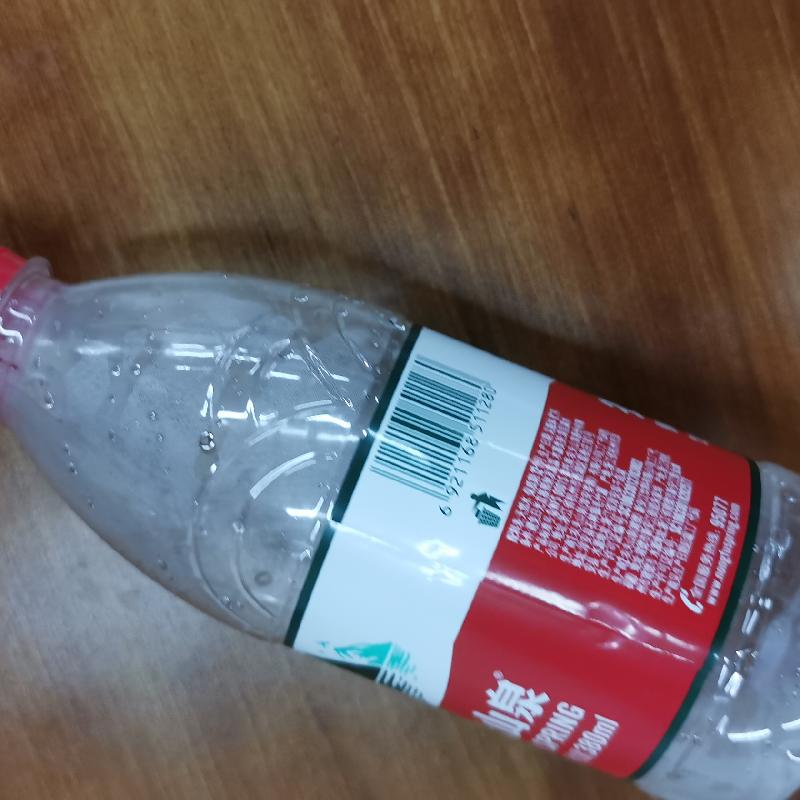bottles: (0, 238, 799, 800)
